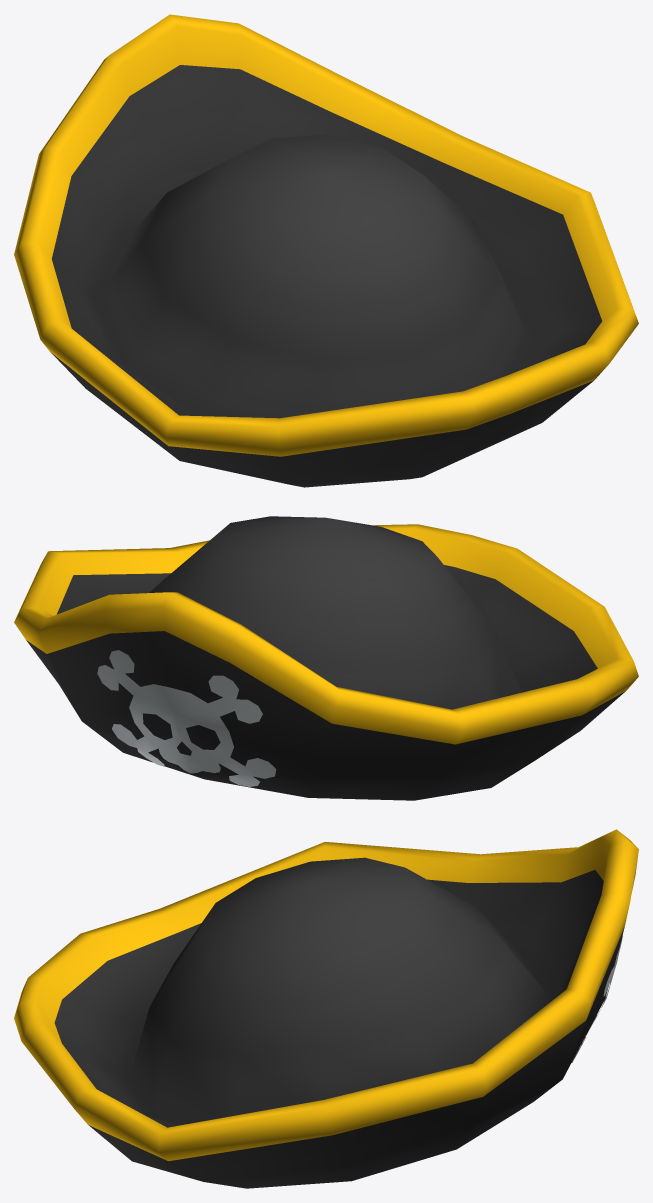
Rendered from Headgear_13.fbx.
3 renders of one model, top to bottom at view 1: azimuth 30°, elevation 25°; view 2: azimuth 150°, elevation 25°; view 3: azimuth 270°, elevation 25°, orthographic.
Parts seen in each view (by area): view 1: Headgear_13; view 2: Headgear_13; view 3: Headgear_13.
Part boxes in pixels (box(x1,y1,x2,y2)): Headgear_13: box(14, 14, 638, 487); Headgear_13: box(14, 516, 638, 800); Headgear_13: box(14, 829, 638, 1188).
Bounding box in the file's own units: 123 × 61.05 × 119.
